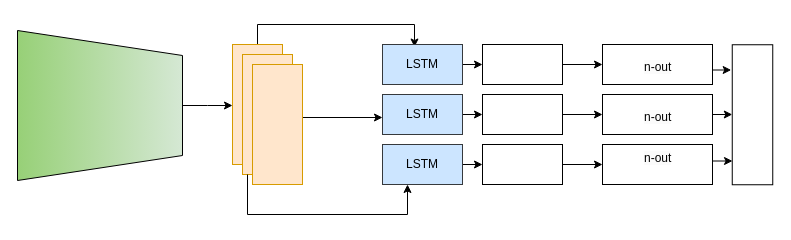
The diagram is 791 pixels wide and 240 high, and some of its shapes have lost their labels. Each missing label, with the box of its shape:
CNN: (16, 30, 182, 180)
Linear: (731, 44, 773, 185)
